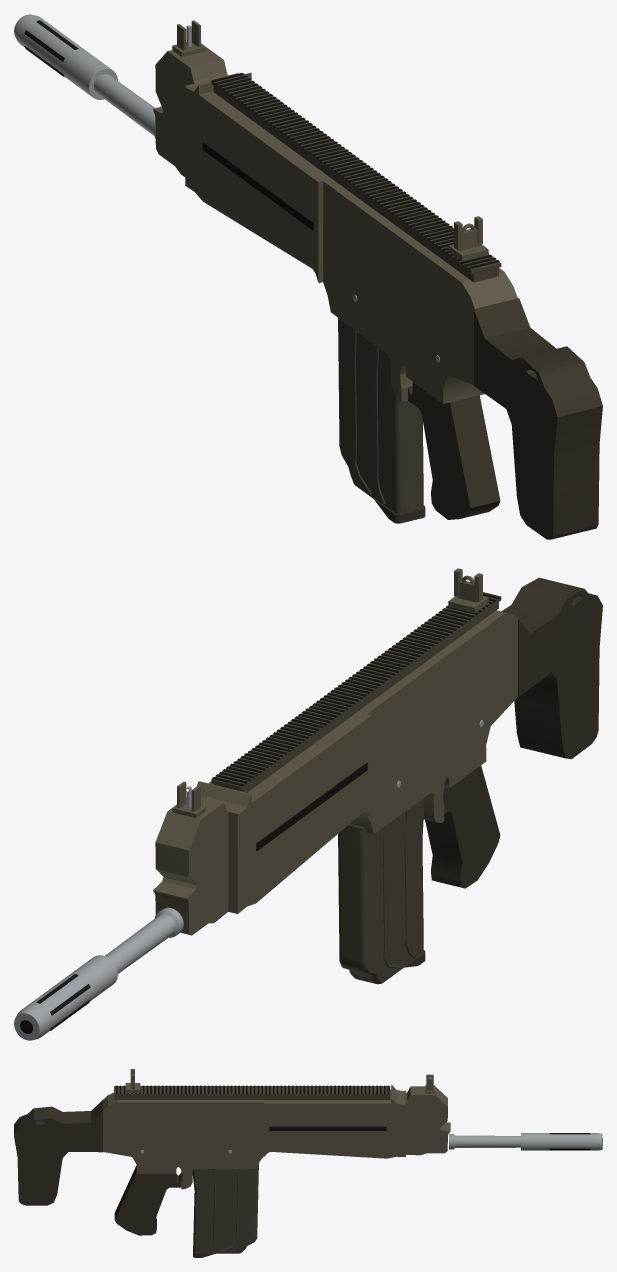
Rendered from ar-rofl.glb.
3 renders of one model, top to bottom at view 1: azimuth 30°, elevation 25°; view 2: azimuth 150°, elevation 25°; view 3: azimuth 270°, elevation 25°, orthographic. The views are drawn at different scales.
Parts seen in each view (by area): view 1: FA_Body, FA_Mag, FA_Hider, FA_IronRear, FA_IronFront; view 2: FA_Body, FA_Mag, FA_Hider, FA_IronRear, FA_IronFront; view 3: FA_Body, FA_Mag, FA_Hider.
Part boxes in pixels (bbox=[...]): FA_Body: bbox=[94, 44, 602, 539]; FA_Mag: bbox=[338, 318, 425, 523]; FA_Hider: bbox=[14, 14, 117, 99]; FA_IronRear: bbox=[448, 216, 488, 261]; FA_IronFront: bbox=[172, 20, 205, 56]; FA_Body: bbox=[105, 577, 602, 973]; FA_Mag: bbox=[338, 798, 425, 984]; FA_Hider: bbox=[14, 955, 117, 1040]; FA_IronRear: bbox=[448, 568, 488, 613]; FA_IronFront: bbox=[172, 781, 205, 817]; FA_Body: bbox=[14, 1085, 520, 1235]; FA_Mag: bbox=[192, 1164, 258, 1257]; FA_Hider: bbox=[521, 1133, 602, 1150].
Size of the model in its own units: 0.0456 by 0.2722 by 0.8.
